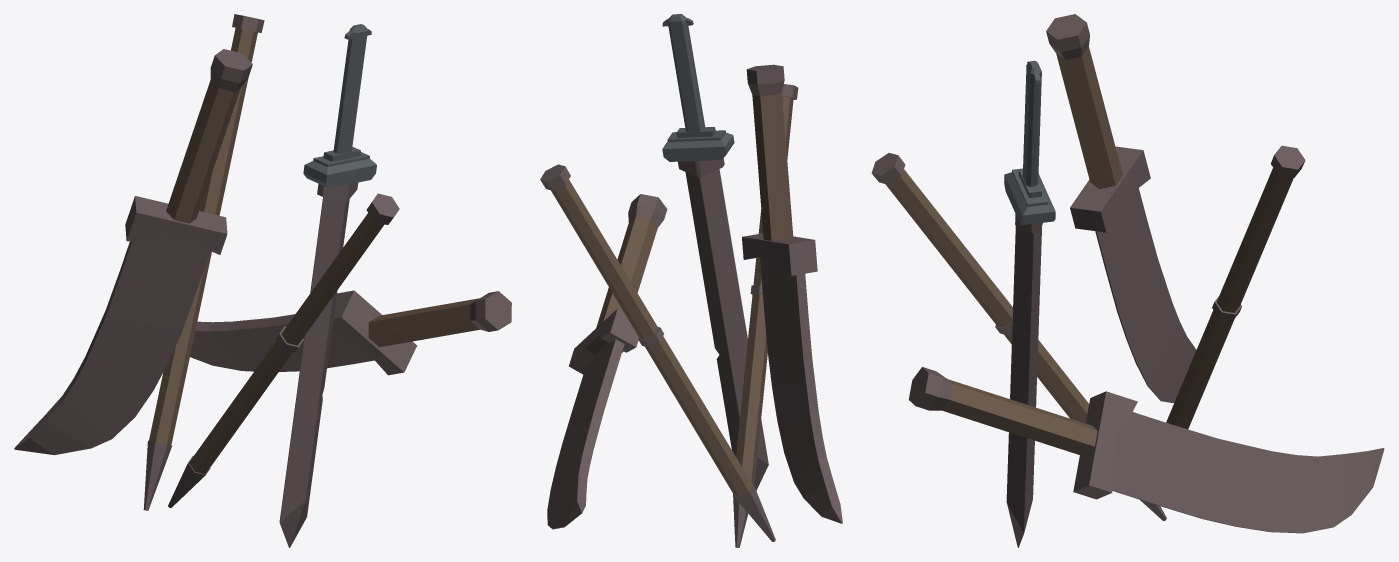
Rendered from caelid_weapons.glb.
The picture shows the model from 3 angles, left to right: view 1: azimuth 30°, elevation 25°; view 2: azimuth 150°, elevation 25°; view 3: azimuth 270°, elevation 25°; orthographic projection. The views are drawn at different scales.
Parts seen in each view (by area): view 1: Swords.036; view 2: Swords.036; view 3: Swords.036.
Part boxes in pixels (left/top/right/bottom): Swords.036: left=14, top=14, right=511, bottom=547; Swords.036: left=540, top=14, right=842, bottom=547; Swords.036: left=871, top=14, right=1384, bottom=547.
Size of the model in its own units: 0.1277 by 0.1678 by 0.1489.
